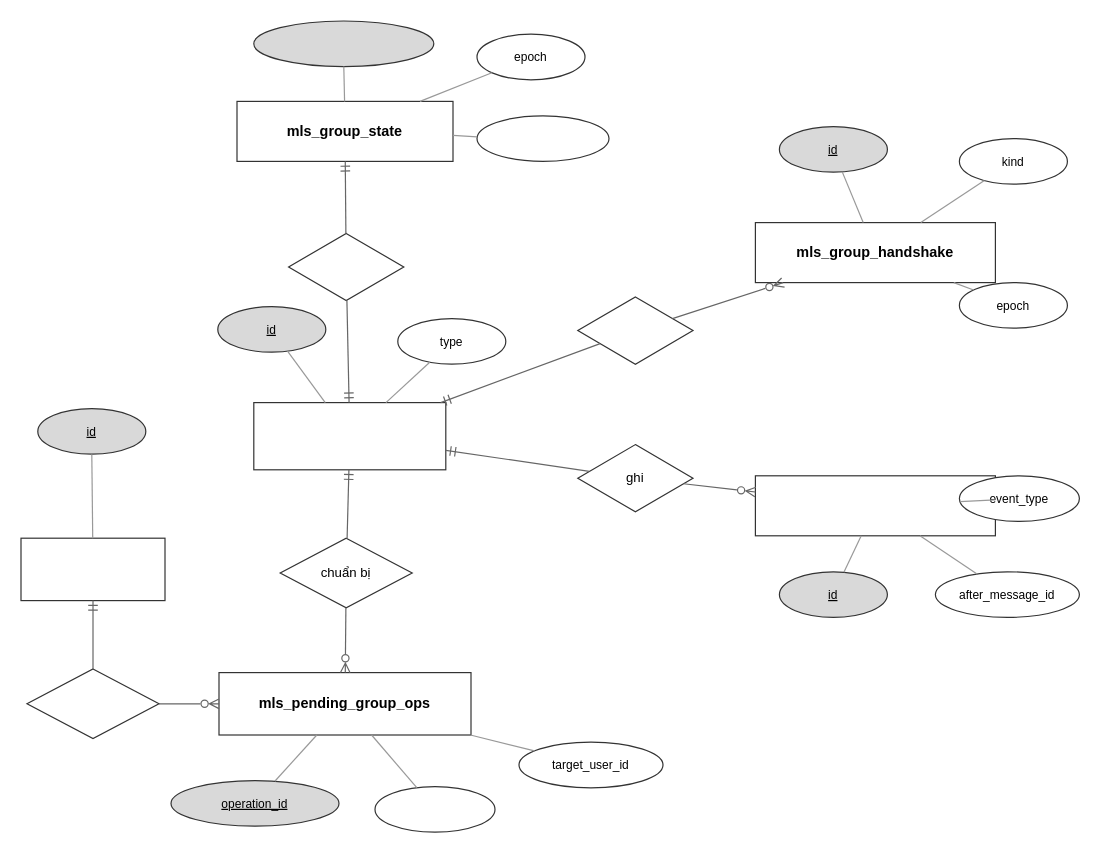
The diagram is 1100 pixels wide and 853 high, and some of its shapes have lost their labels. The centre of each missing label's shape, as x and y in pixels:
"ciphersuite" belongs at point (542, 138).
"Conversation" belongs at point (349, 435).
"conversation_id" belongs at point (343, 43).
"có" belongs at point (345, 266).
"group_system_events" belongs at point (874, 505).
"lưu" belongs at point (635, 330).
"operation" belongs at point (434, 808).
"thực hiện" belongs at point (92, 703).
"User" belongs at point (92, 569).
